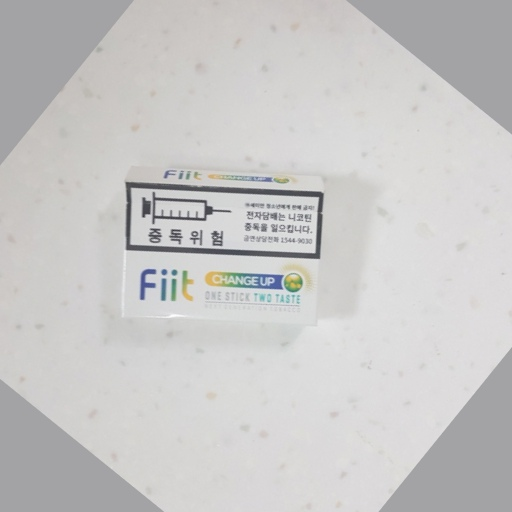Paper_0: (114, 153, 339, 341)
